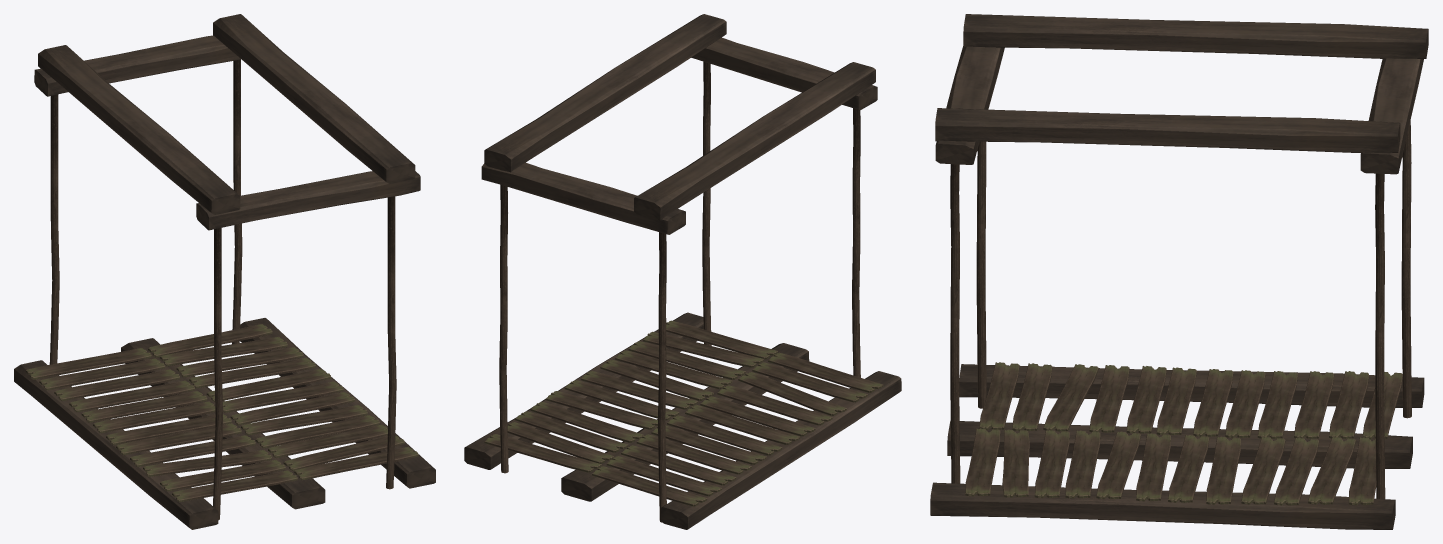
File: elevator2.FBX
The picture shows the model from 3 angles, left to right: view 1: azimuth 30°, elevation 25°; view 2: azimuth 150°, elevation 25°; view 3: azimuth 270°, elevation 25°; orthographic projection. The views are drawn at different scales.
Parts seen in each view (by area): view 1: elevator2_LOD0; view 2: elevator2_LOD0; view 3: elevator2_LOD0.
Part boxes in pixels (x1,y1,x2,y2): elevator2_LOD0: [14, 14, 435, 529]; elevator2_LOD0: [464, 14, 901, 529]; elevator2_LOD0: [930, 14, 1428, 529].
Bounding box in the file's own units: 300 × 422 × 362.
